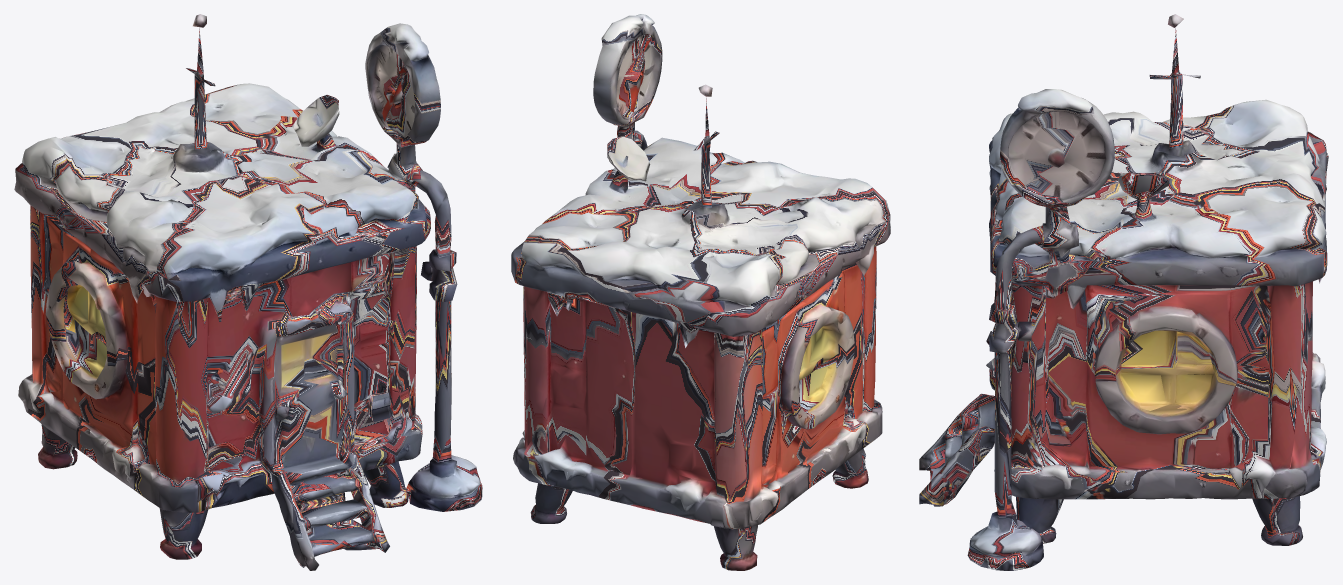
The model's file is polar-hut.glb.
3 renders of one model, left to right at view 1: azimuth 30°, elevation 25°; view 2: azimuth 150°, elevation 25°; view 3: azimuth 270°, elevation 25°, orthographic. The views are drawn at different scales.
Parts seen in each view (by area): view 1: tripo_node_b1e47078-0f97-49b4-9a9f-ea0e4a271980; view 2: tripo_node_b1e47078-0f97-49b4-9a9f-ea0e4a271980; view 3: tripo_node_b1e47078-0f97-49b4-9a9f-ea0e4a271980.
Part boxes in pixels (<box>): tripo_node_b1e47078-0f97-49b4-9a9f-ea0e4a271980: <box>14,14,482,570</box>; tripo_node_b1e47078-0f97-49b4-9a9f-ea0e4a271980: <box>511,14,890,570</box>; tripo_node_b1e47078-0f97-49b4-9a9f-ea0e4a271980: <box>919,14,1328,570</box>.
Size of the model in its own units: 0.7205 by 1 by 0.7945.
Materials: 1 (1 with a texture image).
